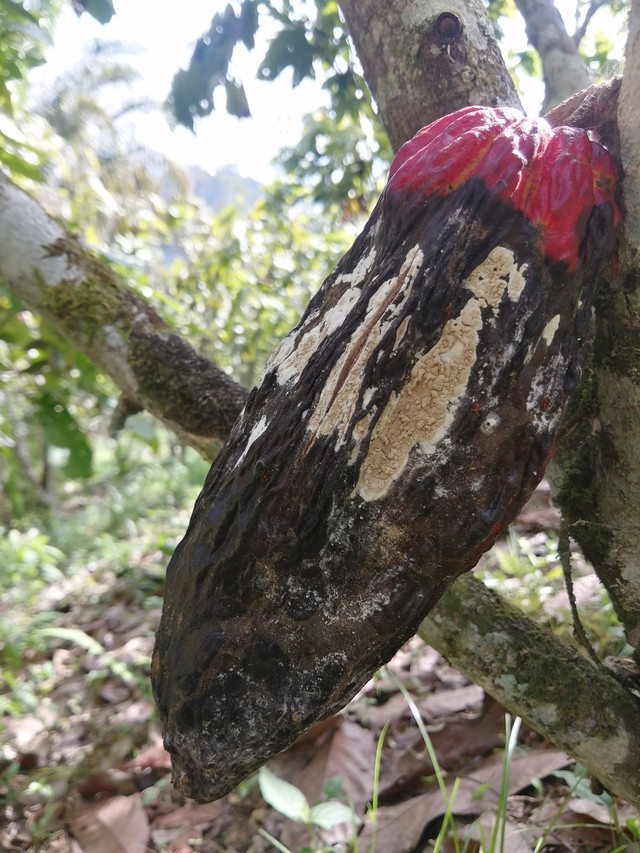moniliophthora roreri: (140, 99, 627, 814)
